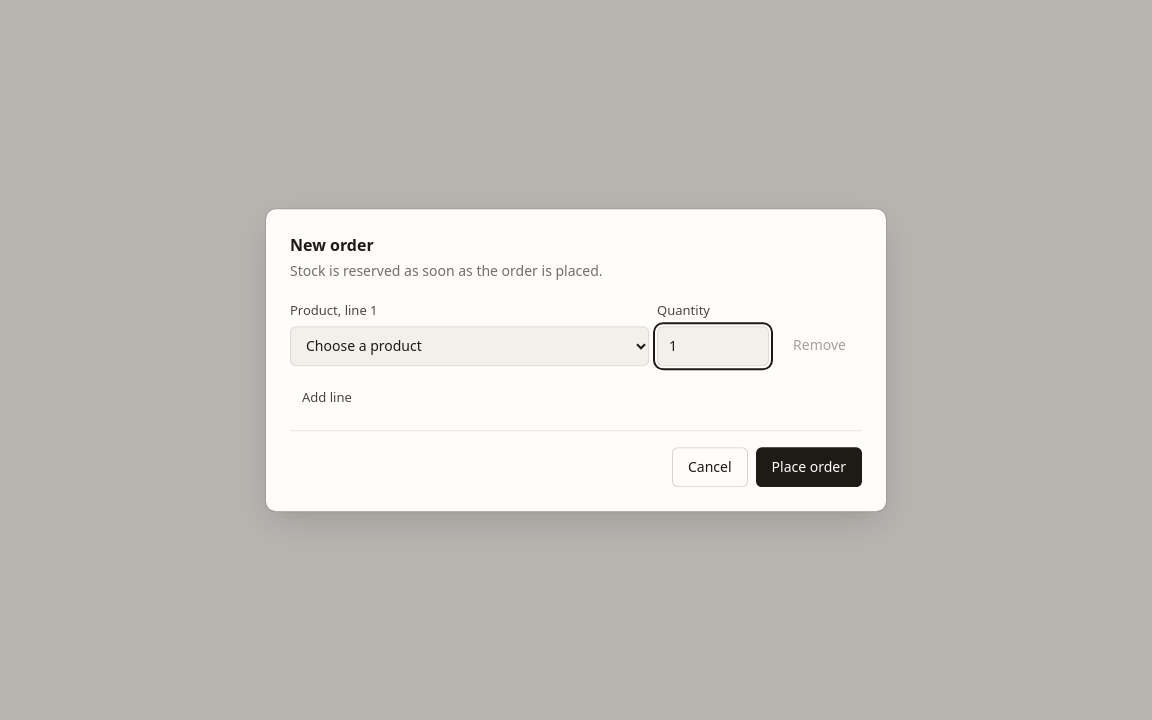
placing an order › INSUFFICIENT_STOCK (409) is shown on the line it concerns
Select "BOLT-1 · Bolt (5 available)" in the dropdown labelled "Product, line 1": [470, 346] box [290,326,649,366]
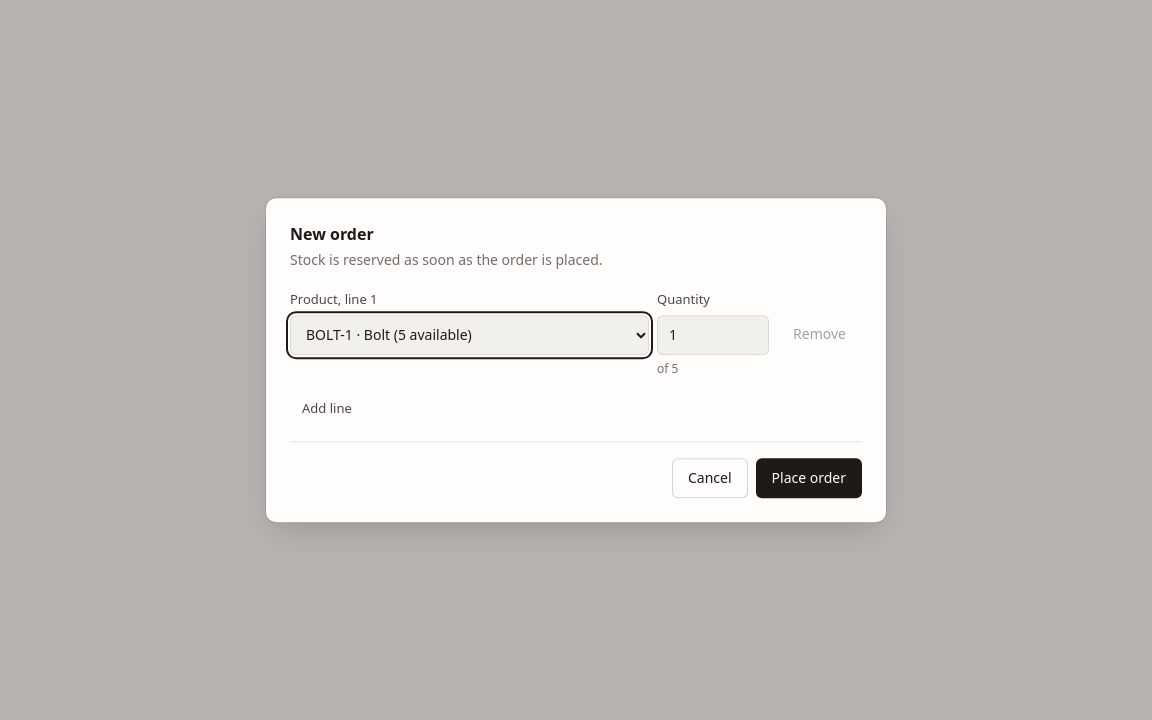
Replace the text in the field labelled "Quantity" with "2": [713, 335] box [657,315,769,355]
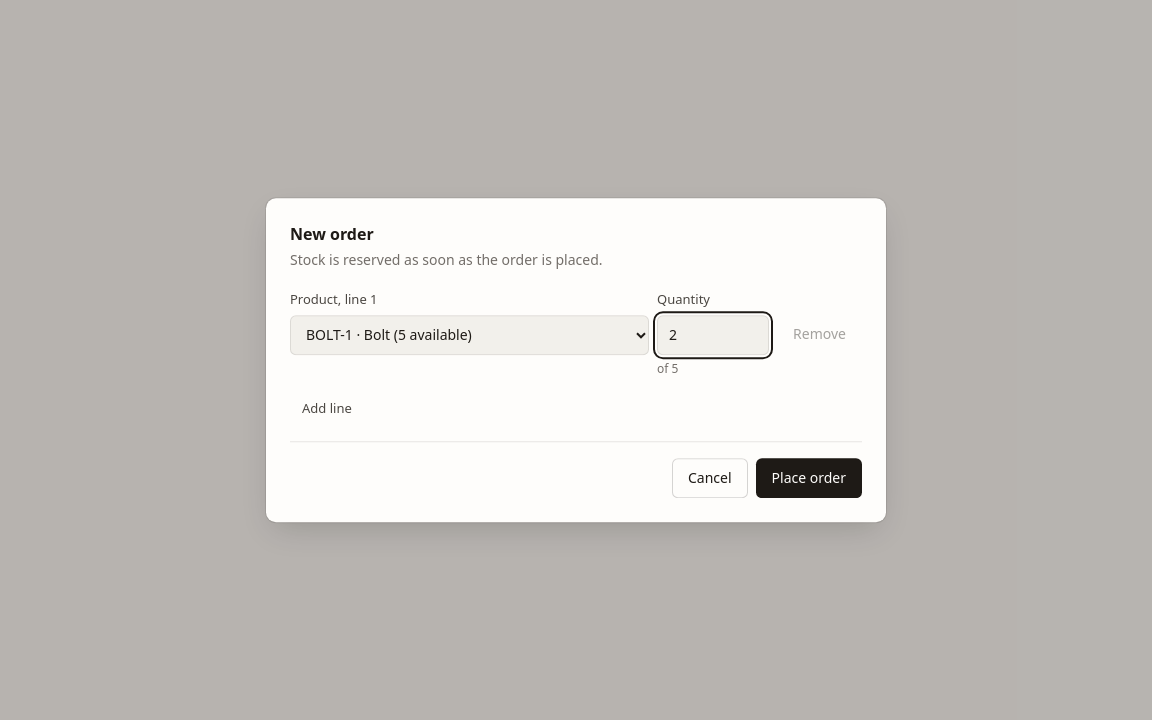
Click the button "Place order": [809, 478] box [756,458,862,498]
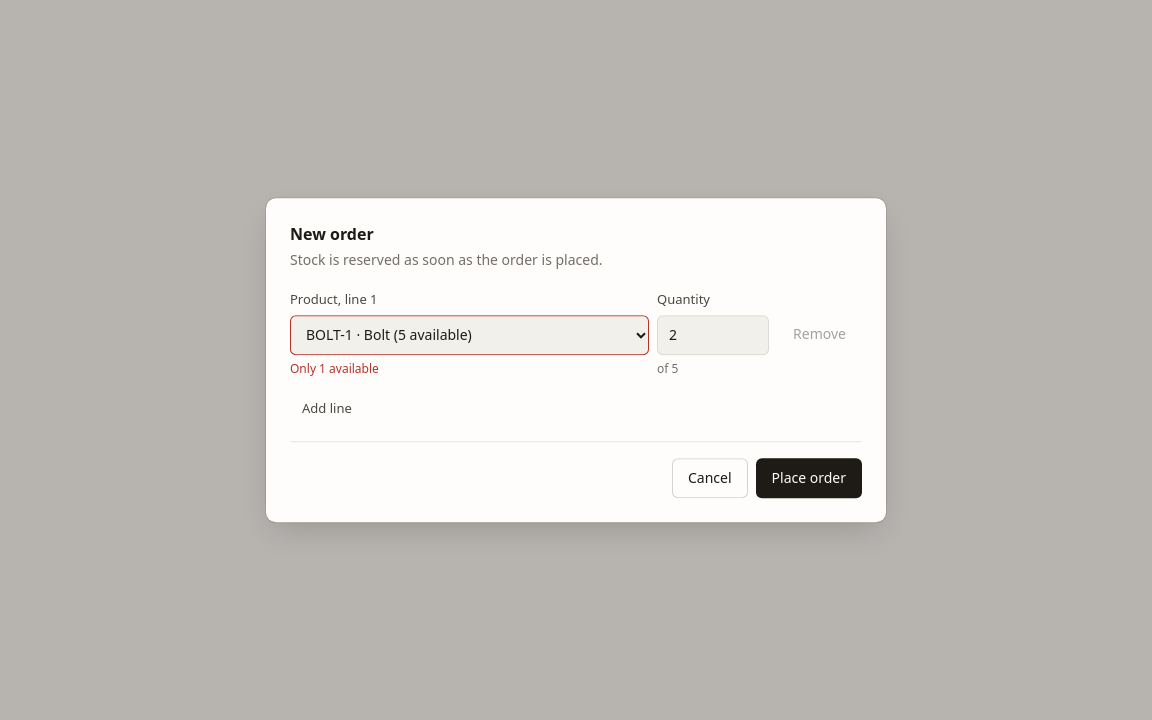
Now the text "Only 1 available" is shown, box [290,360,379,377]
